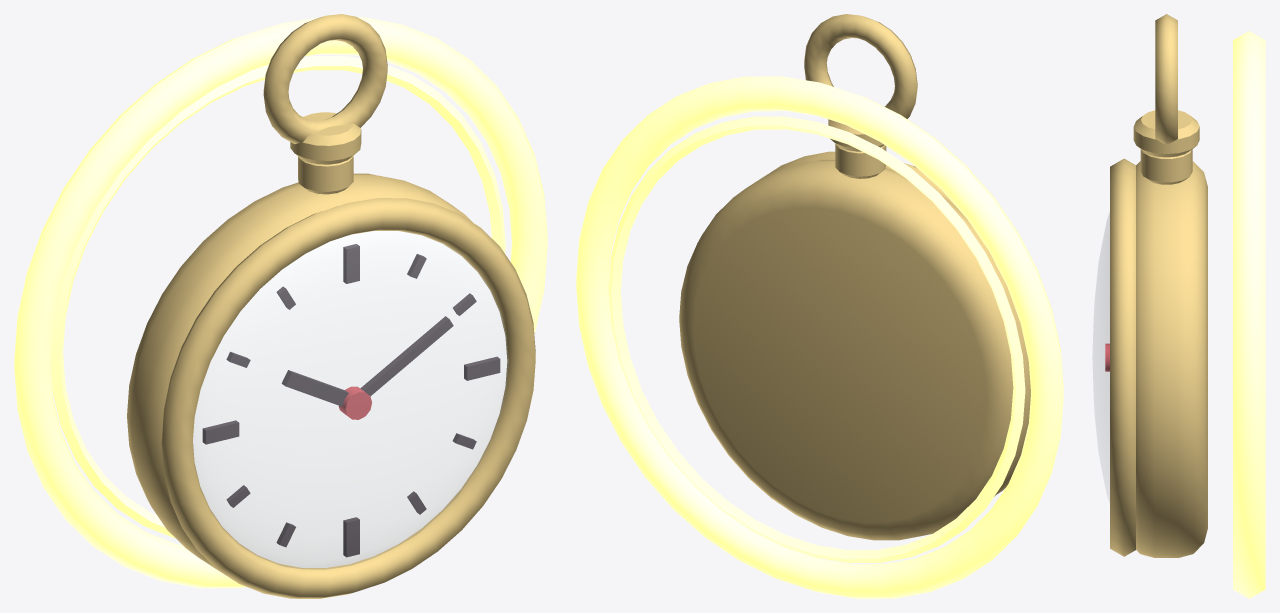
The model's file is item_clock.glb.
The picture shows the model from 3 angles, left to right: view 1: azimuth 30°, elevation 25°; view 2: azimuth 150°, elevation 25°; view 3: azimuth 270°, elevation 25°; orthographic projection. The views are drawn at different scales.
Visible parts, largest first — view 1: item_clock; view 2: item_clock; view 3: item_clock.
Part boxes in pixels (x1=…): item_clock: x1=14, y1=14, x2=547, y2=598; item_clock: x1=576, y1=14, x2=1063, y2=598; item_clock: x1=1092, y1=14, x2=1265, y2=598.
Size of the model in its own units: 0.482 by 0.517 by 0.1469.
